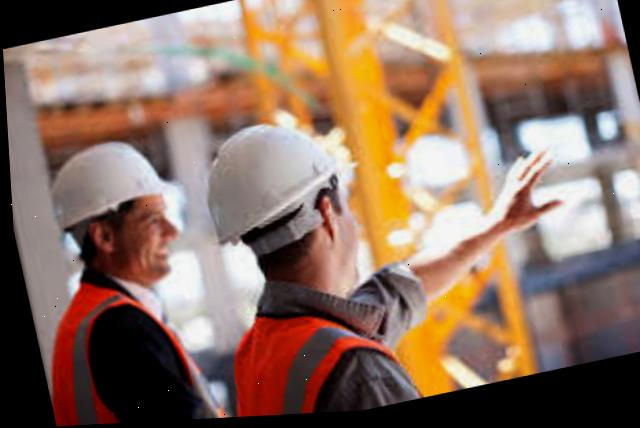helmet: (183, 112, 359, 251), (17, 122, 182, 244)
vest: (195, 276, 434, 421), (23, 273, 215, 428)
